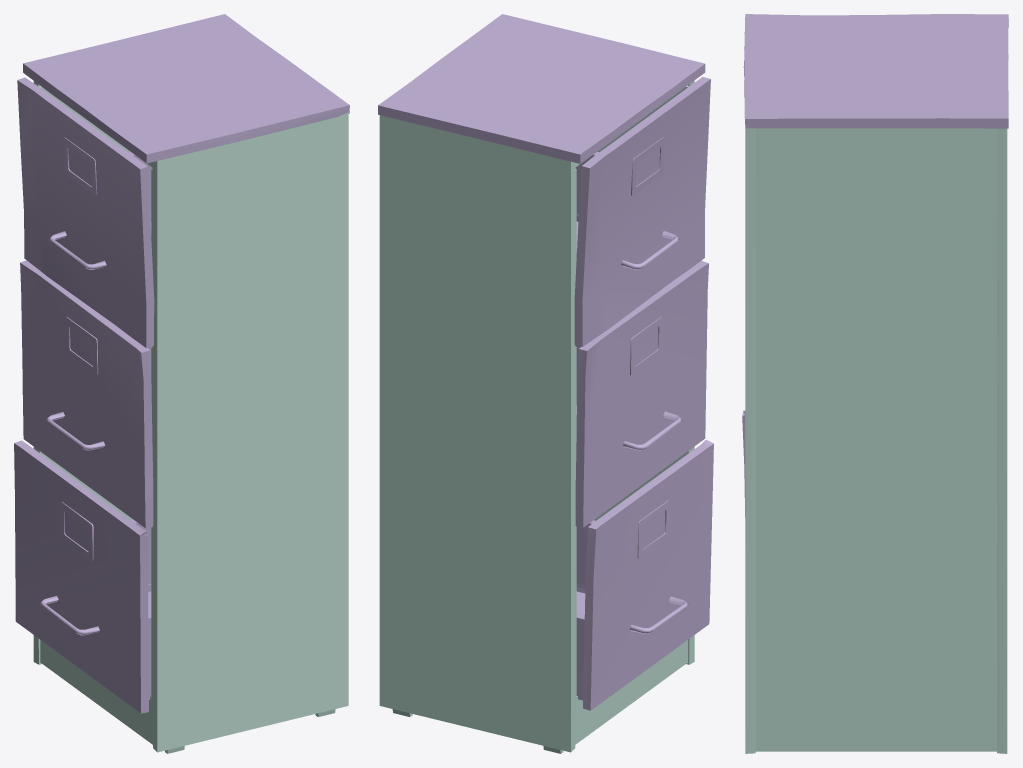
Rendered from boxstrong1.fbx.
The picture shows the model from 3 angles, left to right: view 1: azimuth 30°, elevation 25°; view 2: azimuth 150°, elevation 25°; view 3: azimuth 270°, elevation 25°; orthographic projection. The views are drawn at different scales.
Parts seen in each view (by area): view 1: mex_covers_strongbox_010; view 2: mex_covers_strongbox_010; view 3: mex_covers_strongbox_010.
Part boxes in pixels (left/top/right/bottom): mex_covers_strongbox_010: left=14, top=14, right=349, bottom=753; mex_covers_strongbox_010: left=378, top=14, right=713, bottom=753; mex_covers_strongbox_010: left=742, top=14, right=1008, bottom=753.
Bounding box in the file's own units: 72.77 × 183 × 68.94.
